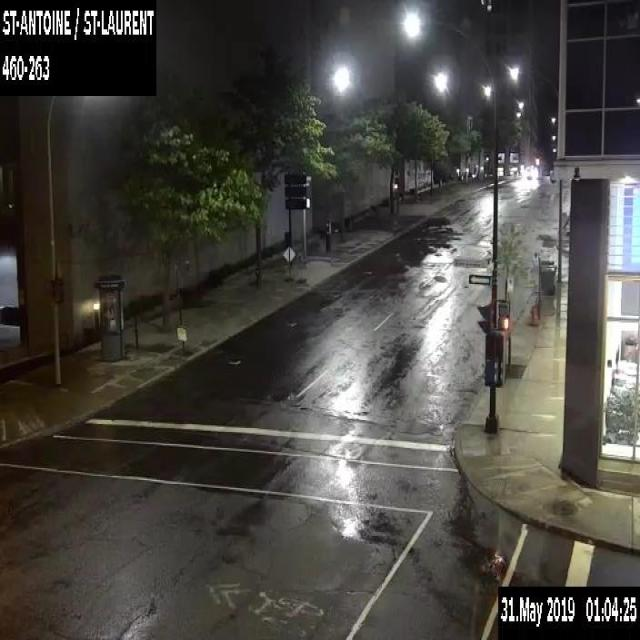vehicle: (520, 161, 538, 180)
